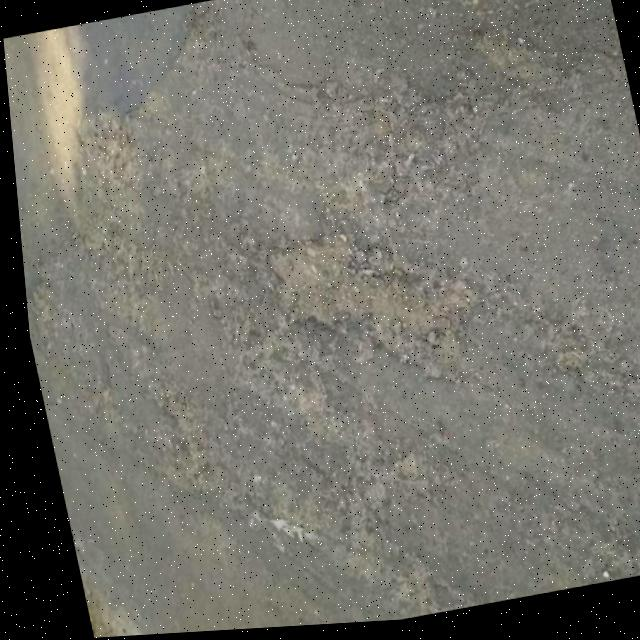Pothole: (246, 207, 477, 419)
